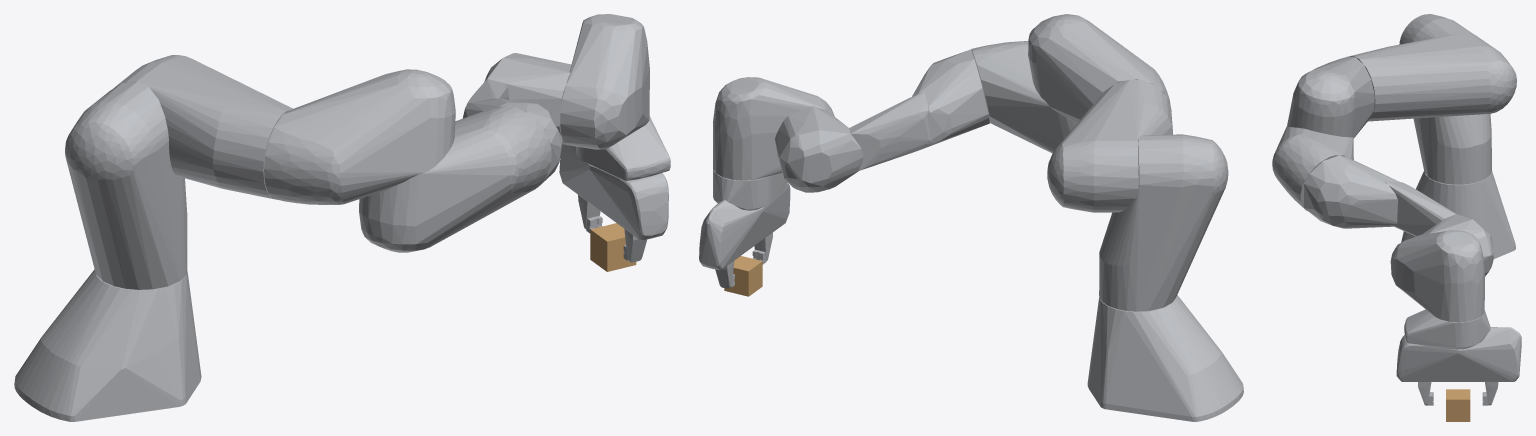
The model's file is franka_grasp.glb.
3 renders of one model, left to right at view 1: azimuth 30°, elevation 25°; view 2: azimuth 150°, elevation 25°; view 3: azimuth 270°, elevation 25°, orthographic. The views are drawn at different scales.
Size of the model in its own units: 0.8479 by 0.4311 by 0.4077.
